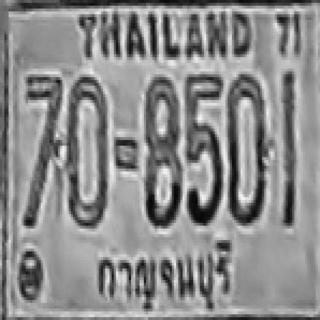N00: (65, 73, 108, 227), (226, 72, 266, 223)
N05: (185, 72, 221, 223)
N07: (23, 71, 63, 226), (25, 71, 63, 217)
N08: (144, 74, 180, 226)
P17: (91, 237, 238, 313)
